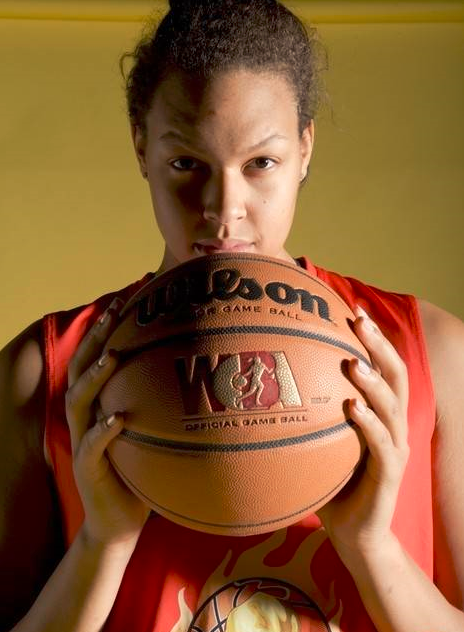ball: (96, 253, 376, 539)
